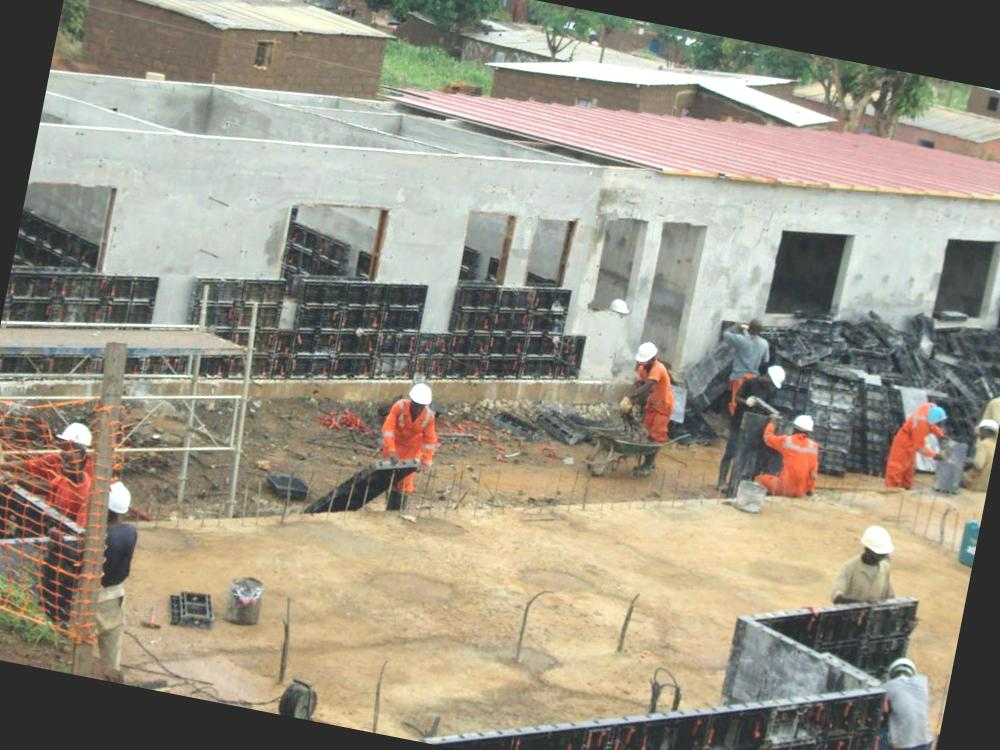person: (357, 370, 450, 534), (610, 334, 688, 487), (868, 388, 966, 508), (748, 404, 832, 518), (30, 412, 98, 534)
